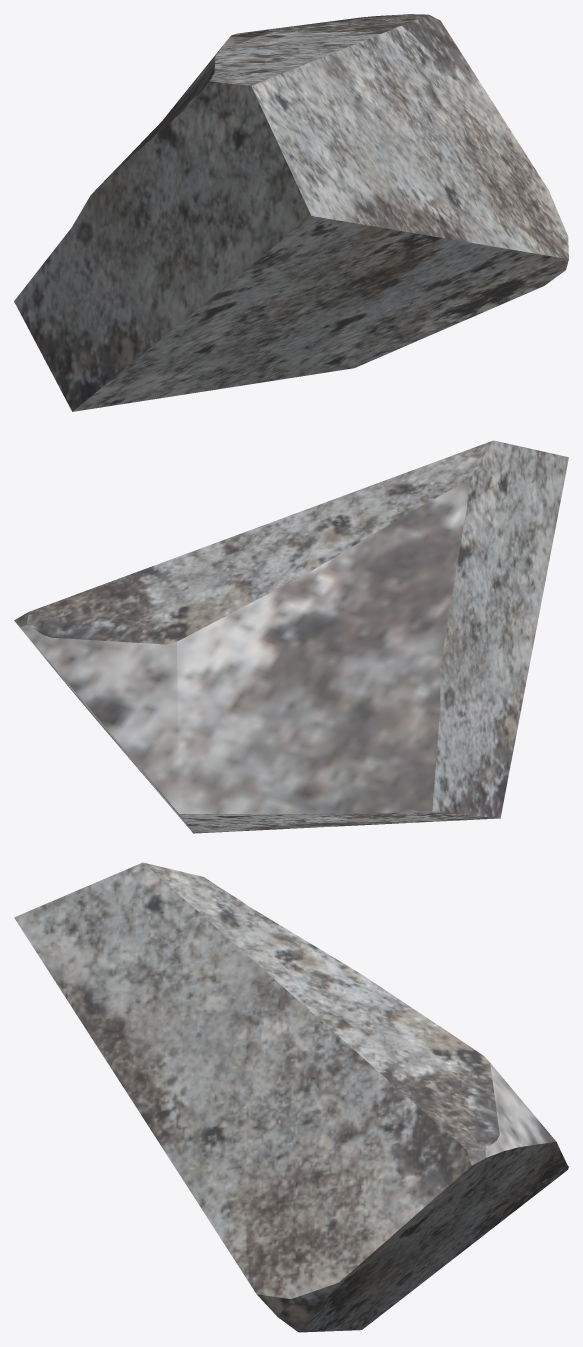
The model's file is Asteroid_Large_001_02_011_03_015.fbx.
3 renders of one model, top to bottom at view 1: azimuth 30°, elevation 25°; view 2: azimuth 150°, elevation 25°; view 3: azimuth 270°, elevation 25°, orthographic. The views are drawn at different scales.
Visible parts, largest first — view 1: Asteroid_Large_001_02_011_03_015; view 2: Asteroid_Large_001_02_011_03_015; view 3: Asteroid_Large_001_02_011_03_015.
Part boxes in pixels (x1,y1,x2,y2): Asteroid_Large_001_02_011_03_015: [14, 14, 568, 411]; Asteroid_Large_001_02_011_03_015: [14, 440, 568, 833]; Asteroid_Large_001_02_011_03_015: [14, 862, 568, 1332].
Size of the model in its own units: 10.45 by 8.54 by 11.57.
